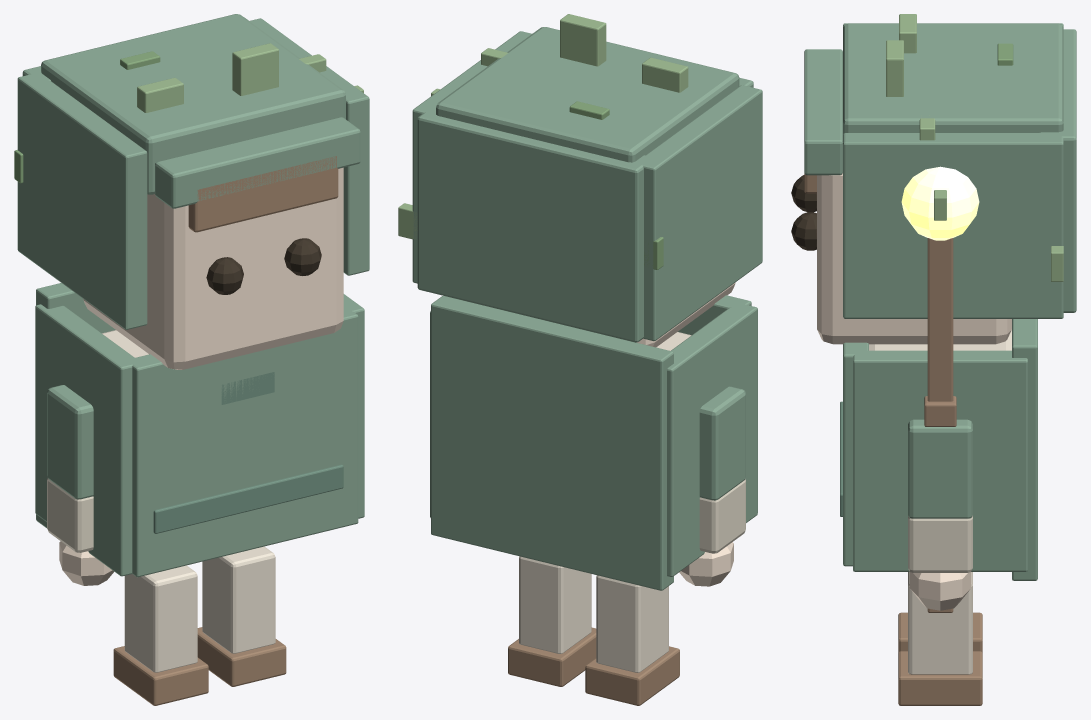
The model's file is druid_v2_redesign.glb.
The picture shows the model from 3 angles, left to right: view 1: azimuth 30°, elevation 25°; view 2: azimuth 150°, elevation 25°; view 3: azimuth 270°, elevation 25°; orthographic projection.
Parts seen in each view (by area): view 1: Cloak_Front, Head_Face, Hood_SideL, Hood_Crown, Cloak_SideL, Hood_Brim, LegL_Shaft, LegR_Shaft, Hair_Front, Hood_SideR, Cloak_Belt, ArmL_Sleeve (+11 smaller); view 2: Cloak_Back, Hood_Back, Hood_SideL, Hood_Crown, Cloak_SideL, LegL_Shaft, LegR_Shaft, ArmL_Sleeve, LegL_Sandal, LegR_Sandal, ArmL_Wrap, Hood_SideR (+6 smaller); view 3: Hood_SideR, Cloak_SideR, Hood_Crown, Head_Face, ArmR_Sleeve, Hood_Brim, LegR_Shaft, Staff_Shaft2, Hood_Back, Staff_Orb, ArmR_Wrap, Cloak_Back (+11 smaller).
Boxes of the visible parts, x1,y1,x2,y2 form: Cloak_Front: [127, 306, 358, 577]; Head_Face: [83, 167, 343, 369]; Hood_SideL: [17, 72, 147, 329]; Hood_Crown: [41, 14, 345, 194]; Cloak_SideL: [35, 304, 134, 576]; Hood_Brim: [155, 117, 360, 208]; LegL_Shaft: [124, 565, 197, 672]; LegR_Shaft: [202, 546, 275, 653]; Hair_Front: [188, 156, 338, 232]; Hood_SideR: [249, 18, 369, 275]; Cloak_Belt: [153, 464, 343, 533]; ArmL_Sleeve: [47, 385, 93, 499]; Cloak_Back: [431, 295, 673, 590]; Hood_Back: [417, 105, 651, 342]; Hood_SideL: [636, 85, 762, 341]; Hood_Crown: [436, 27, 739, 162]; Cloak_SideL: [667, 304, 757, 576]; LegL_Shaft: [596, 575, 668, 672]; LegR_Shaft: [519, 556, 591, 653]; ArmL_Sleeve: [699, 386, 745, 500]; LegL_Sandal: [585, 646, 679, 705]; LegR_Sandal: [508, 627, 596, 686]; ArmL_Wrap: [699, 479, 745, 553]; Hood_SideR: [412, 31, 531, 283]; Hood_SideR: [843, 133, 1063, 318]; Cloak_SideR: [853, 350, 1027, 571]; Hood_Crown: [843, 23, 1063, 134]; Head_Face: [817, 173, 1011, 344]; ArmR_Sleeve: [908, 419, 972, 518]; Hood_Brim: [804, 49, 842, 175]; LegR_Shaft: [908, 572, 972, 674]; Staff_Shaft2: [927, 238, 953, 401]; Hood_Back: [1039, 29, 1076, 312]; Staff_Orb: [901, 166, 979, 240]; ArmR_Wrap: [908, 515, 972, 572]; Cloak_Back: [1012, 319, 1037, 580].
Bounding box in the file's own units: 0.54 × 1.09 × 0.44.
